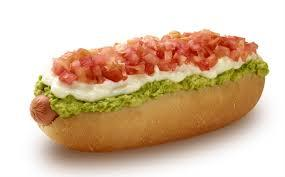Completos: (22, 26, 269, 152)
